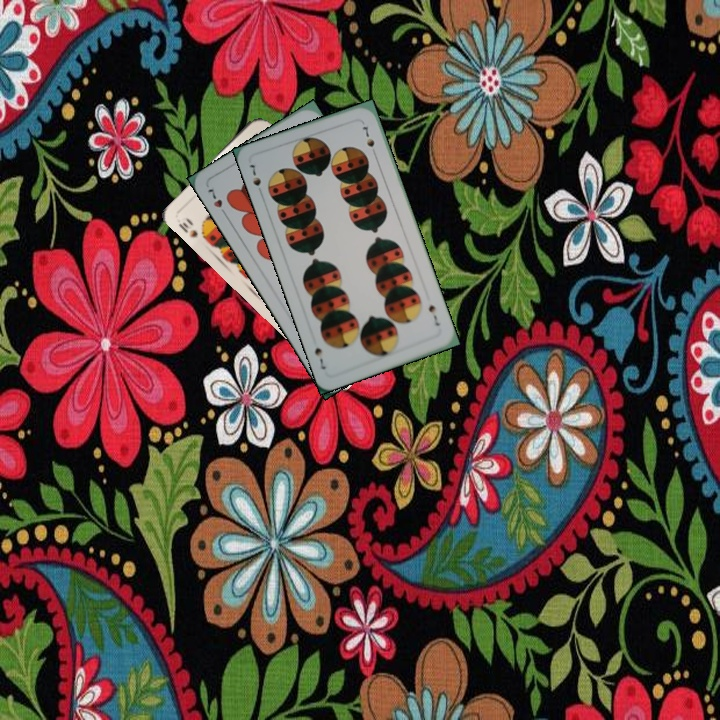H7: (203, 183, 230, 220)
S10: (174, 213, 201, 240)
S7: (245, 160, 264, 188), (424, 300, 442, 328)
